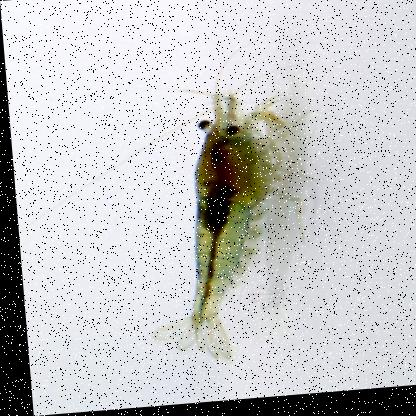shrimp: (132, 88, 317, 366)
